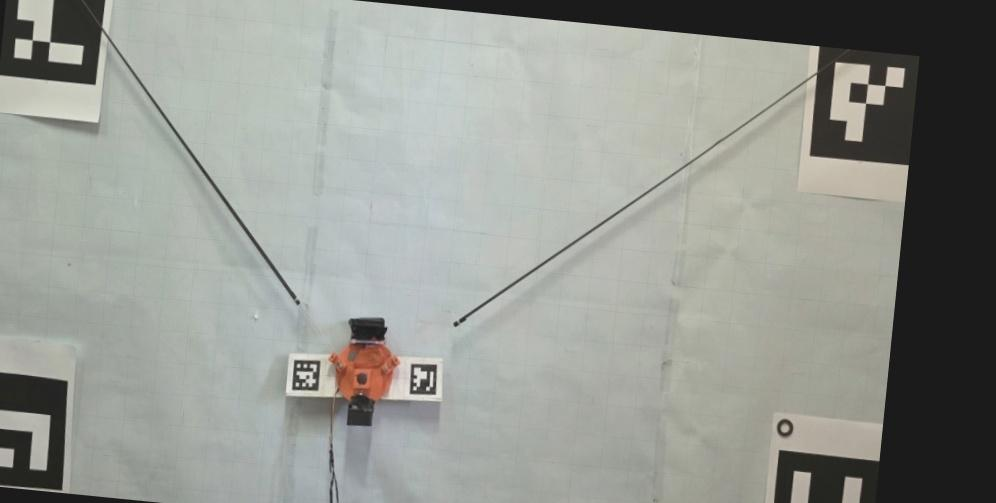robot: (329, 316, 401, 428)
